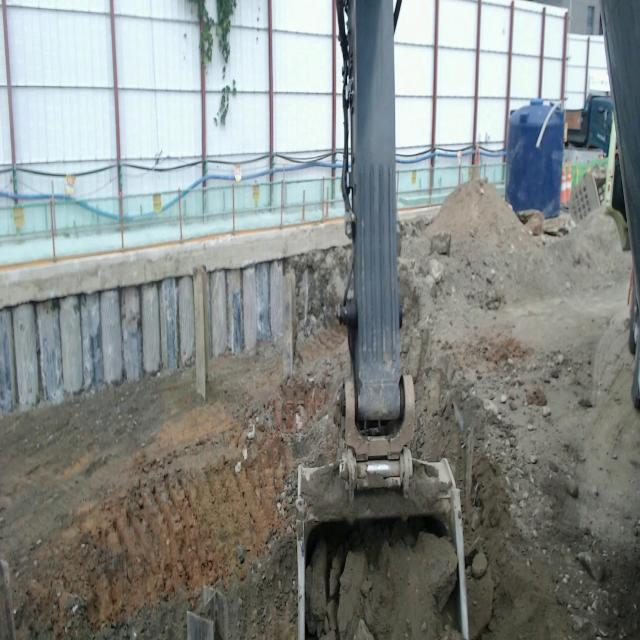white-sand: (0, 309, 350, 639), (398, 181, 640, 639), (306, 519, 459, 639)
